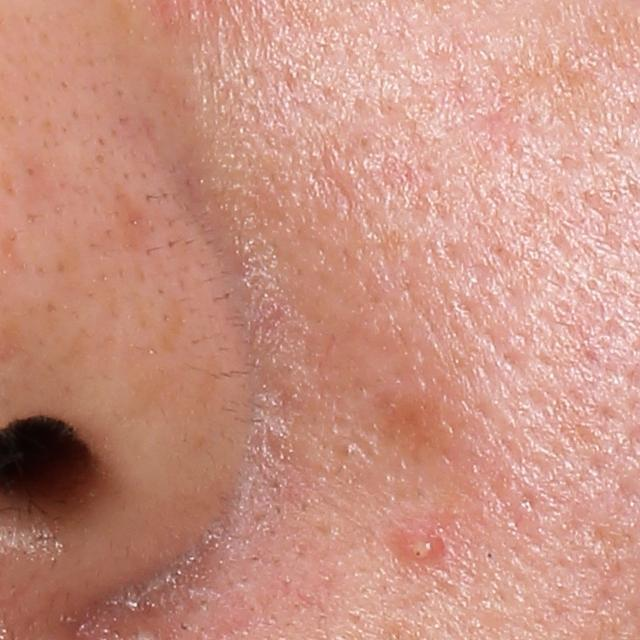pustule: (392, 528, 446, 568)
